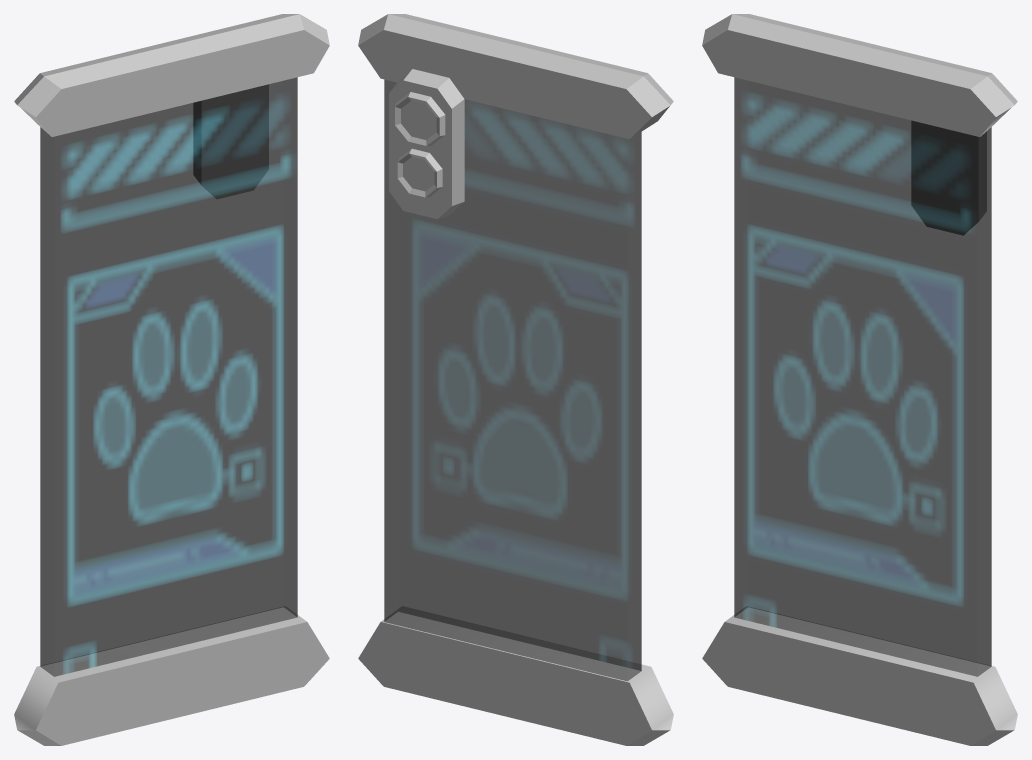
Rendered from SM_Prop_Cellphone_02.fbx.
3 views of the same model, side by side, from view 1: azimuth 30°, elevation 25°; view 2: azimuth 150°, elevation 25°; view 3: azimuth 330°, elevation 25° (orthographic).
Visible parts, largest first — view 1: SM_Prop_Cellphone_02; view 2: SM_Prop_Cellphone_02; view 3: SM_Prop_Cellphone_02.
Boxes of the visible parts, x1,y1,x2,y2 form: SM_Prop_Cellphone_02: [14, 14, 329, 745]; SM_Prop_Cellphone_02: [358, 14, 673, 745]; SM_Prop_Cellphone_02: [702, 14, 1017, 745].
Bounding box in the file's own units: 12.74 × 26.32 × 2.55.
